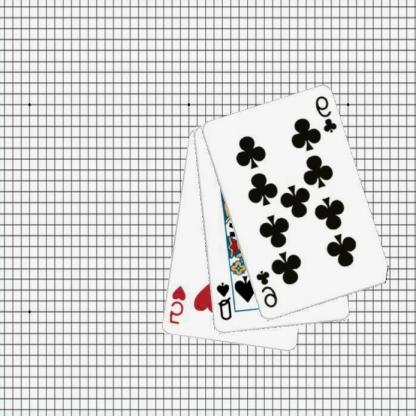5H: (168, 283, 188, 326)
9C: (254, 268, 280, 310), (314, 93, 340, 135)
QS: (216, 280, 234, 322)
